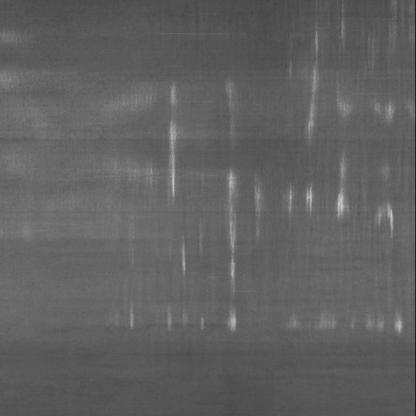waist_folding: (103, 58, 378, 344)
